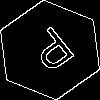P: (25, 25, 84, 81)
